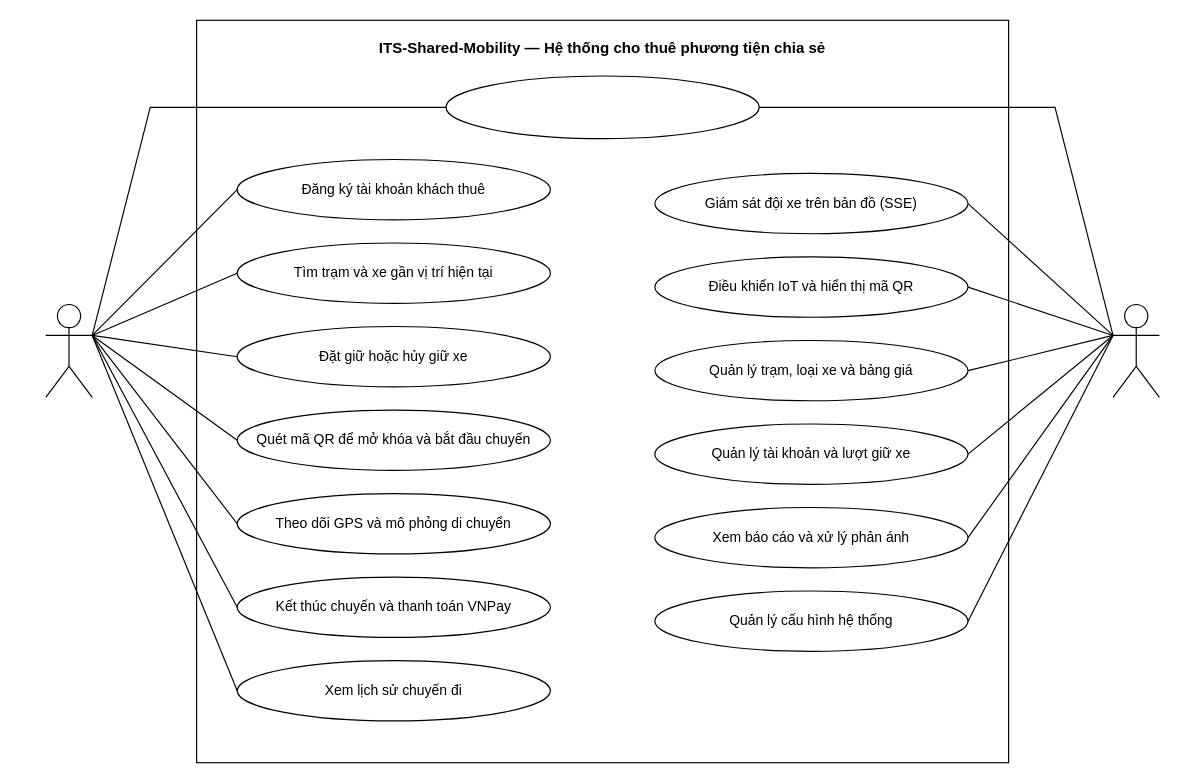
This 1199x783 diagram has some shape labels left out. Here are the shapes that lost their labels. From the top down, the box of each, then its label:
(445, 75, 759, 139): Đăng nhập (JWT)
(45, 303, 92, 397): Khách thuê USER · Android
(1112, 303, 1159, 397): Quản trị viên ADMIN · Web
